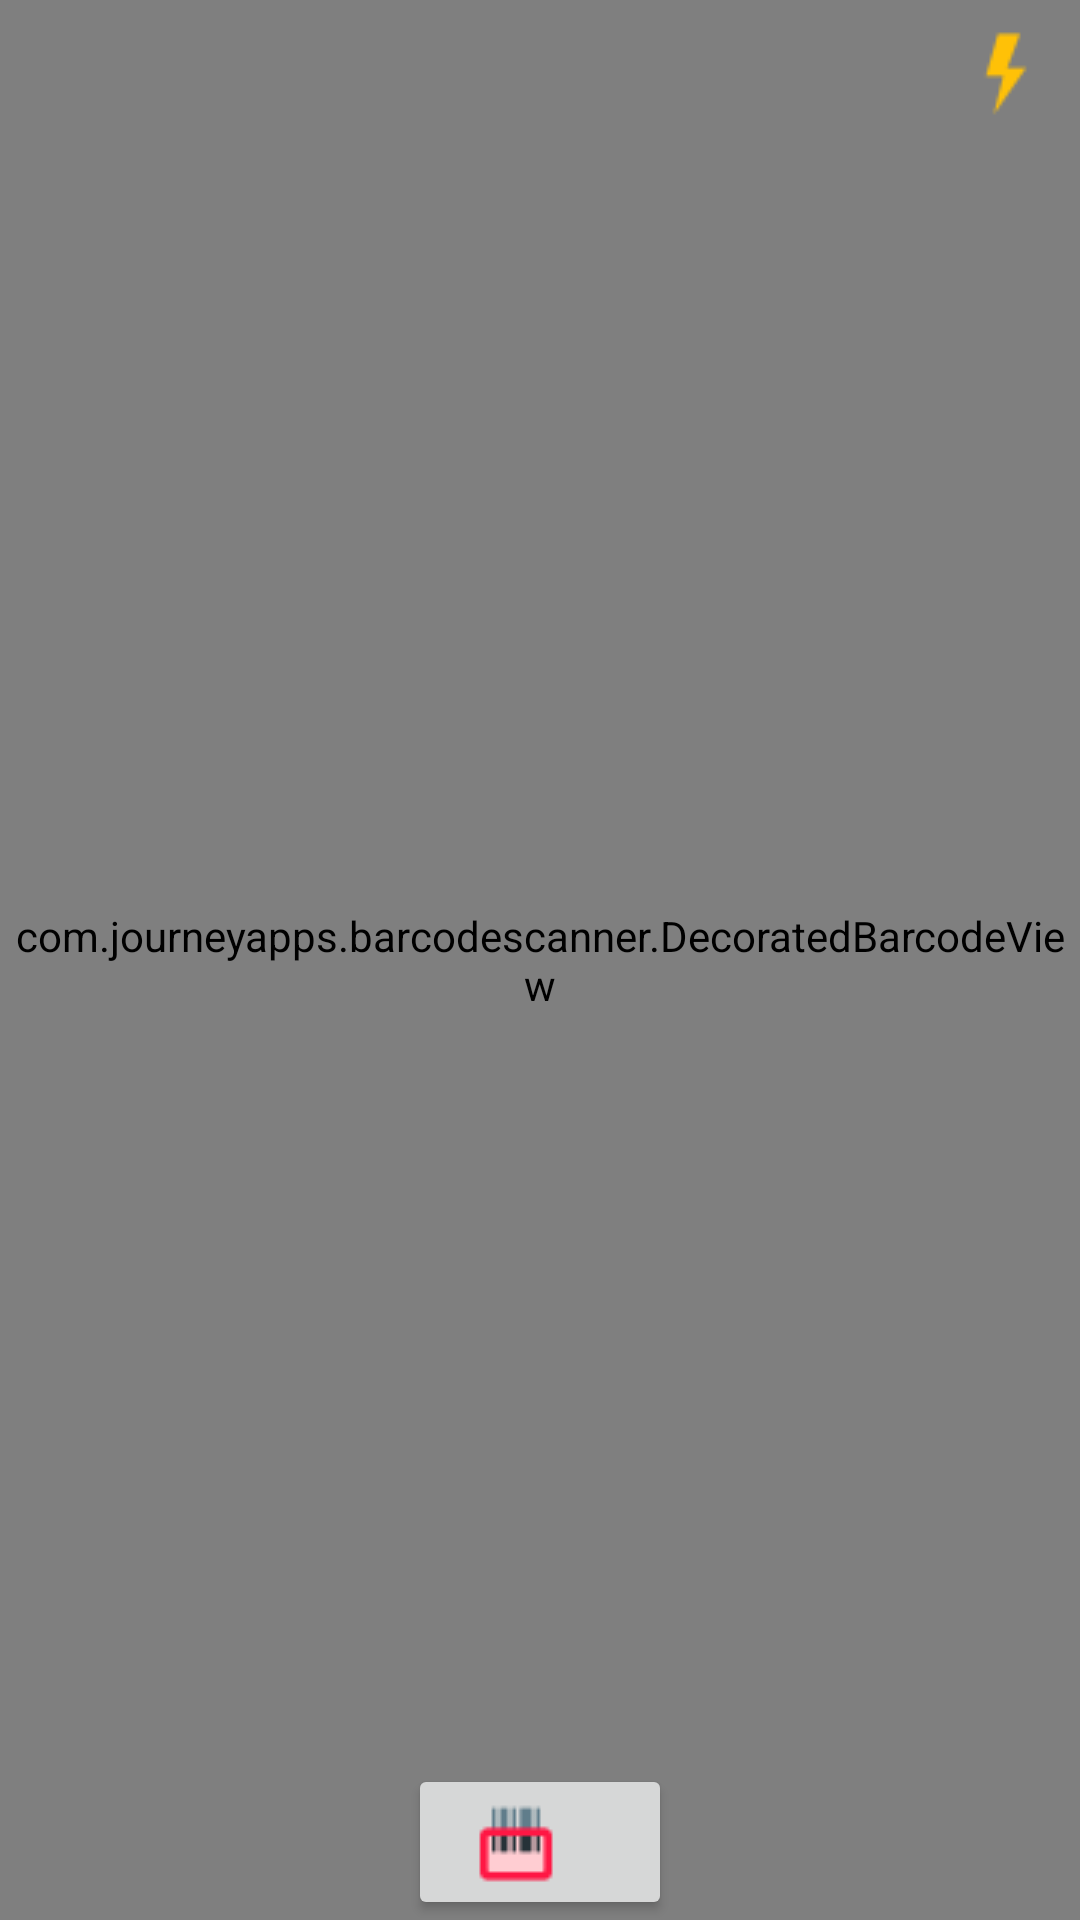

Icon bounding boxes for this 1080 x 1920 phone screenshot, format (x1, y1, x2, y2):
flash on: (986, 32, 1026, 113)
